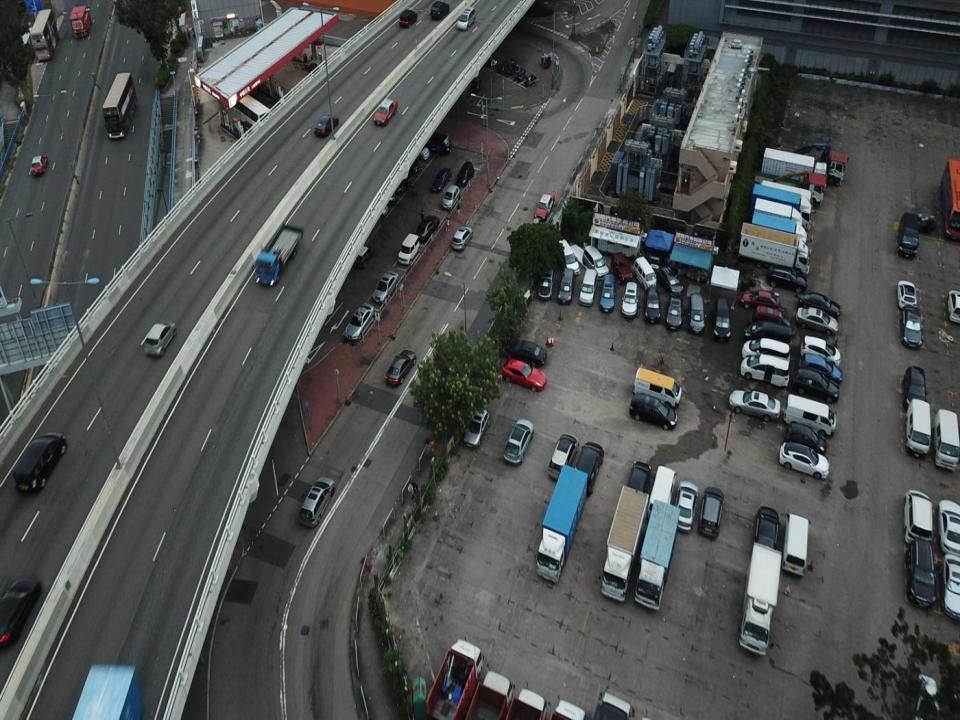bus: (103, 71, 134, 143), (28, 9, 59, 63)
car: (10, 429, 65, 496), (2, 576, 42, 647), (778, 442, 834, 480), (728, 386, 784, 420), (301, 475, 335, 528), (901, 490, 934, 542), (630, 394, 678, 428), (790, 305, 844, 334), (501, 358, 547, 392), (748, 503, 779, 551), (784, 420, 829, 450), (505, 418, 532, 466), (700, 485, 724, 539), (548, 433, 577, 476), (344, 300, 373, 342), (674, 482, 698, 532), (578, 442, 602, 492), (463, 408, 491, 450), (507, 340, 548, 368), (386, 349, 416, 385), (801, 334, 842, 360), (712, 294, 732, 344), (372, 270, 400, 305), (798, 290, 846, 310), (359, 188, 389, 219), (418, 125, 450, 154), (376, 166, 411, 192), (686, 292, 706, 334), (367, 178, 395, 208), (749, 318, 788, 339), (948, 551, 960, 619), (628, 460, 650, 496), (770, 265, 806, 287), (903, 366, 926, 400), (536, 262, 556, 300), (313, 111, 340, 139), (903, 312, 924, 348), (396, 231, 420, 262), (620, 280, 638, 320), (558, 236, 576, 276), (68, 6, 90, 38), (941, 500, 960, 537), (372, 98, 398, 125), (642, 290, 662, 324), (895, 279, 919, 307), (612, 250, 632, 282), (756, 300, 788, 320), (402, 138, 430, 160), (742, 286, 778, 303), (390, 153, 422, 172), (666, 294, 683, 329), (534, 192, 556, 219), (558, 268, 575, 302), (430, 166, 448, 195), (452, 227, 472, 251), (443, 186, 461, 211), (456, 161, 472, 189), (947, 287, 960, 321), (455, 8, 476, 29), (29, 154, 47, 178), (396, 8, 417, 28), (420, 214, 439, 235), (429, 1, 450, 20)
truck: (535, 464, 588, 587), (600, 483, 648, 608), (736, 543, 779, 658), (418, 640, 480, 716), (633, 499, 675, 609), (736, 223, 812, 269), (254, 223, 304, 286), (763, 148, 831, 184), (747, 209, 808, 249), (793, 144, 848, 186), (751, 181, 815, 214)
van: (905, 543, 940, 611), (784, 392, 836, 435), (632, 366, 682, 406), (782, 512, 810, 576), (905, 399, 932, 459), (935, 408, 959, 474), (741, 355, 789, 383), (796, 371, 842, 400), (143, 321, 177, 360), (651, 465, 677, 513), (804, 354, 846, 380), (898, 211, 920, 259), (743, 341, 792, 359), (580, 246, 608, 275), (634, 256, 657, 288), (662, 260, 682, 294), (599, 275, 616, 312), (580, 268, 596, 307)
